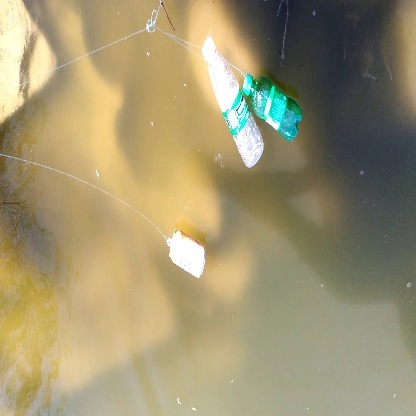bottle: (240, 70, 309, 142)
